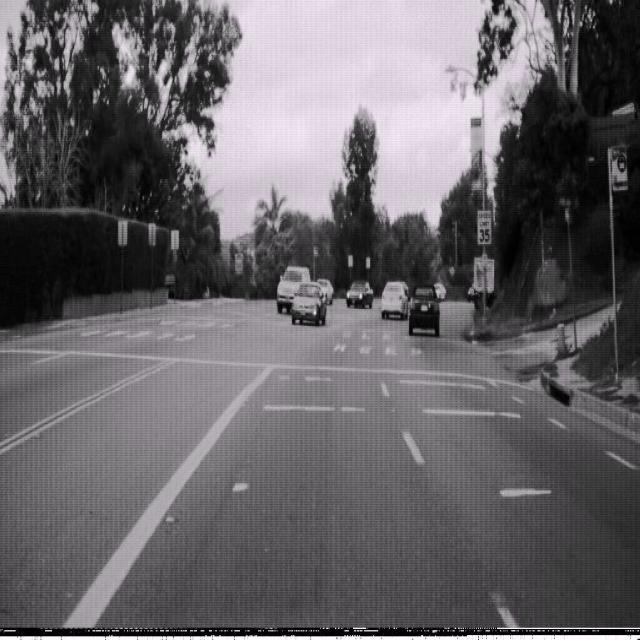speedLimit35: (477, 208, 492, 246)
